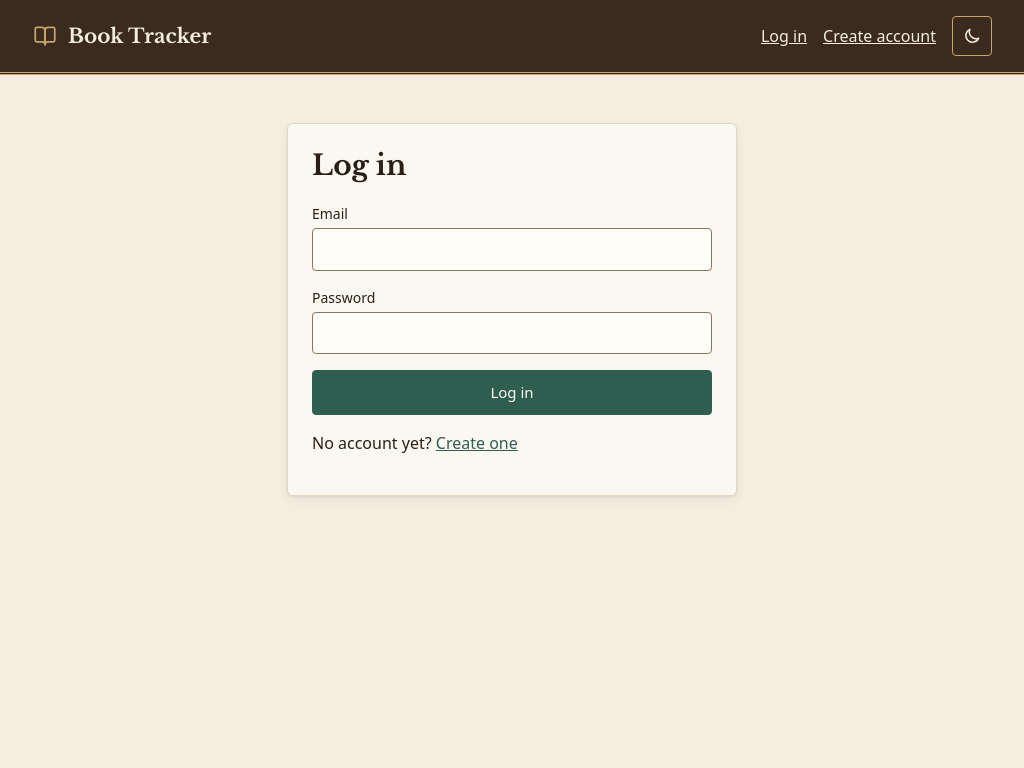
it: login › shows the API message for wrong credentials
In the field labelled "Email": {"x": 512, "y": 249} [312,228,712,270], type "ann@example.com"
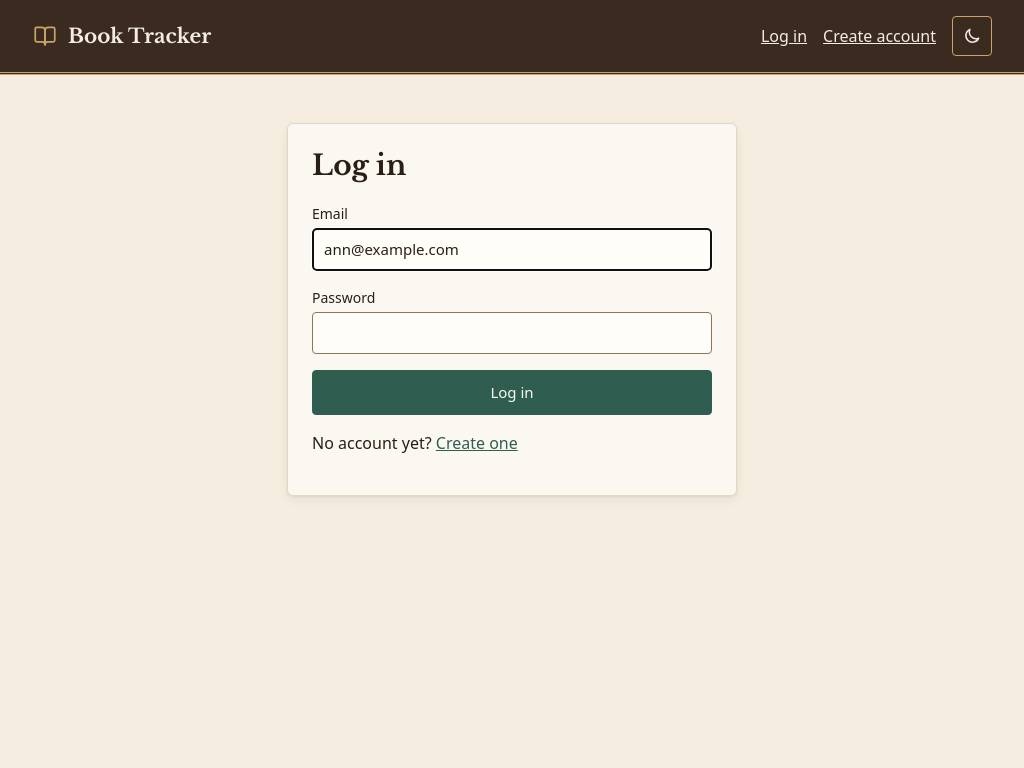
In the password field labelled "Password": {"x": 512, "y": 333} [312,312,712,354], type "wrong password"
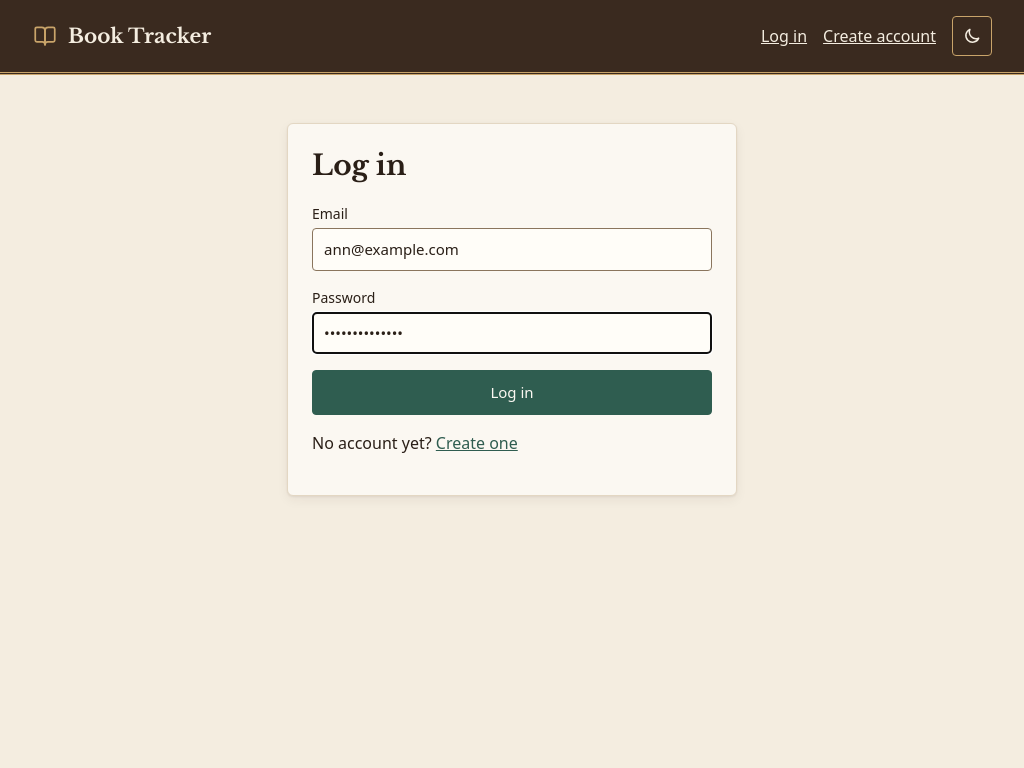
Click the button "Log in": {"x": 512, "y": 392} [312,370,712,414]
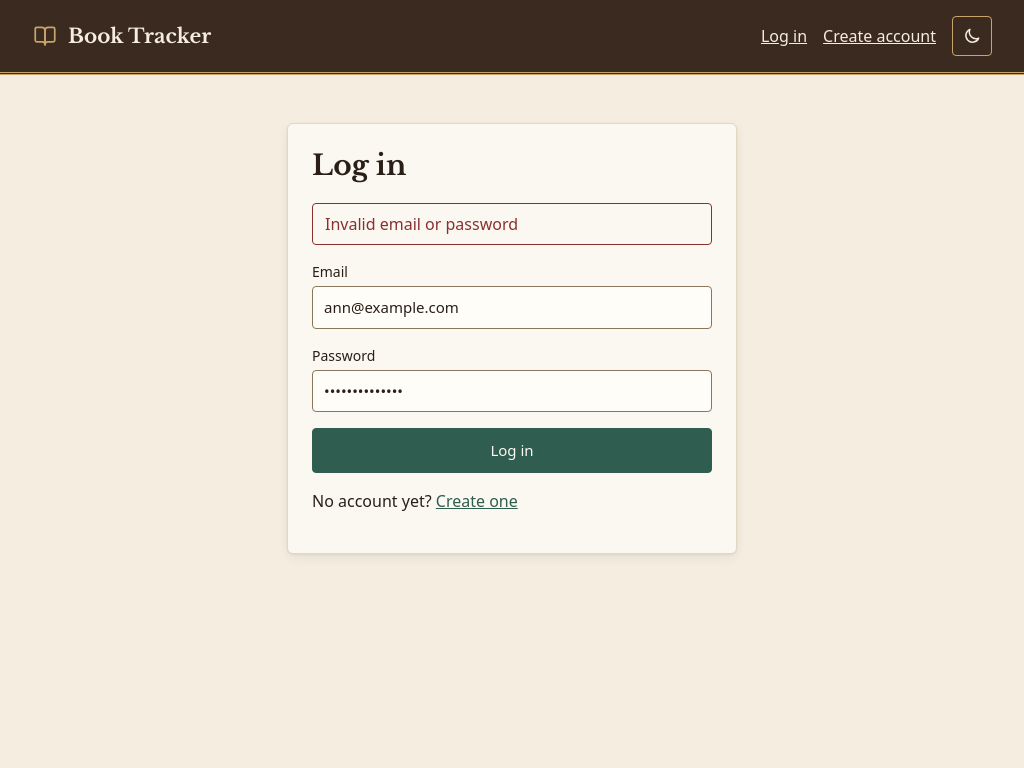
Expected: the message reads "Invalid email or password", [325,213,518,235]
